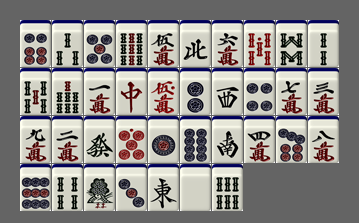0m: (148, 68, 179, 115)
0p: (116, 116, 147, 163)
0s: (244, 20, 275, 67)
1m: (84, 68, 115, 115)
1p: (148, 116, 179, 163)
1s: (84, 164, 115, 211)
1z: (148, 164, 179, 211)
2m: (52, 116, 83, 163)
2p: (180, 68, 211, 115)
2s: (308, 20, 339, 67)
2z: (212, 116, 243, 163)
3m: (308, 68, 339, 115)
3p: (116, 164, 147, 211)
3s: (52, 20, 83, 67)
3z: (212, 68, 243, 115)
4m: (244, 116, 275, 163)
4p: (244, 68, 275, 115)
4s: (52, 164, 83, 211)
4z: (180, 20, 211, 67)
5m: (148, 20, 179, 67)
5p: (84, 20, 115, 67)
5s: (20, 68, 51, 115)
5z: (180, 164, 211, 211)
6m: (212, 20, 243, 67)
6p: (20, 20, 51, 67)
6s: (212, 164, 243, 211)
6z: (84, 116, 115, 163)
7m: (276, 68, 307, 115)
7p: (276, 116, 307, 163)
7s: (52, 68, 83, 115)
7z: (116, 68, 147, 115)
8m: (308, 116, 339, 163)
8p: (180, 116, 211, 163)
8s: (276, 20, 307, 67)
9m: (20, 116, 51, 163)
9p: (20, 164, 51, 211)
9s: (116, 20, 147, 67)
